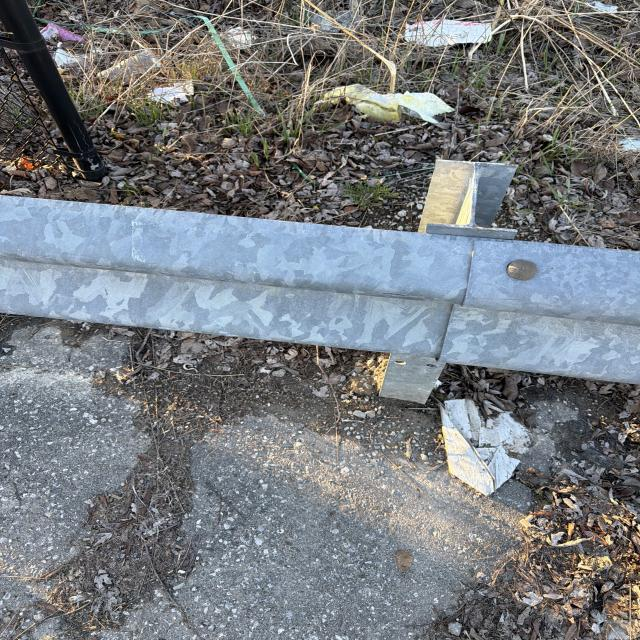Guard rail: (15, 206, 621, 363)
